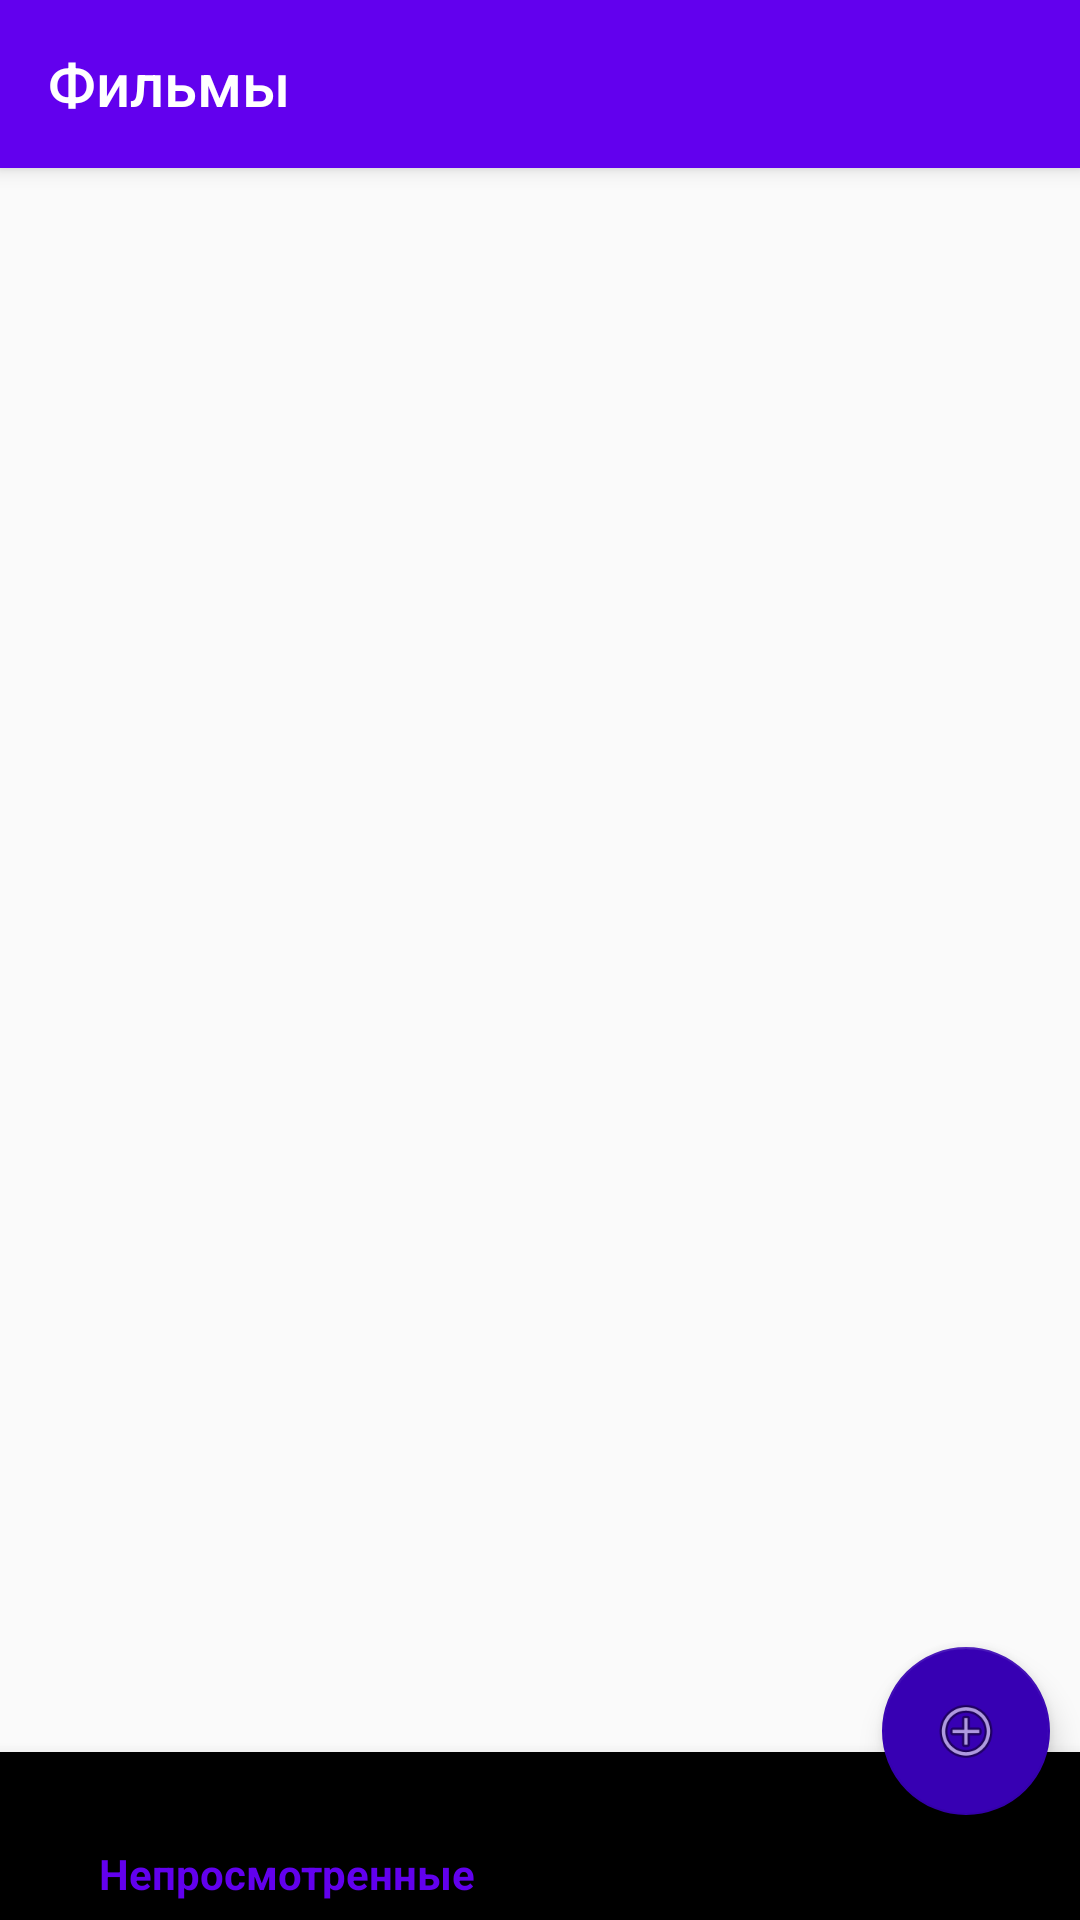

Where to tap for icons on this 1080*1920 app screen, as [x,y]:
add: [966,1731]
